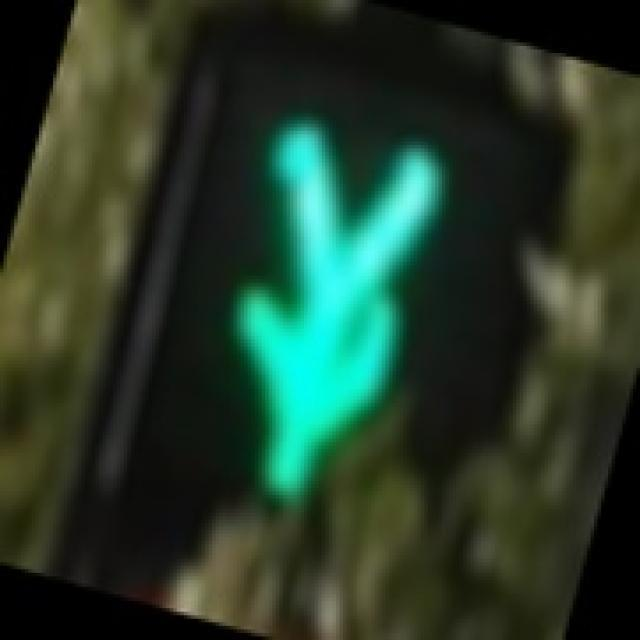geen-crossing: (116, 70, 516, 562)
